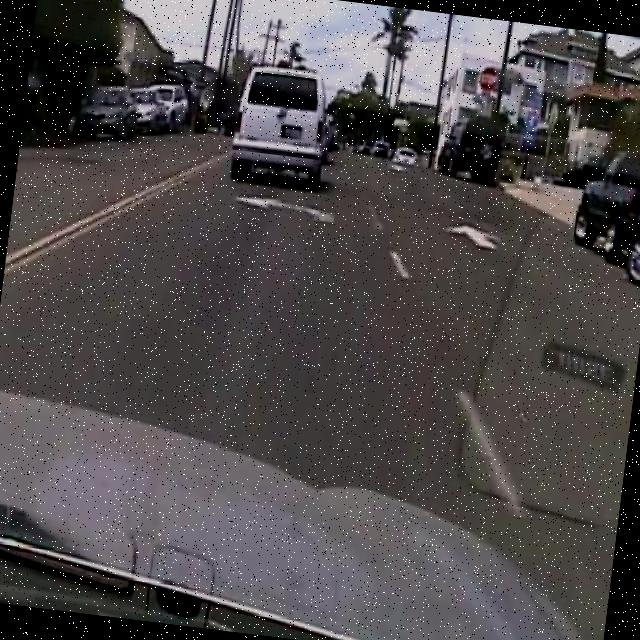Stop: (475, 60, 502, 94)
